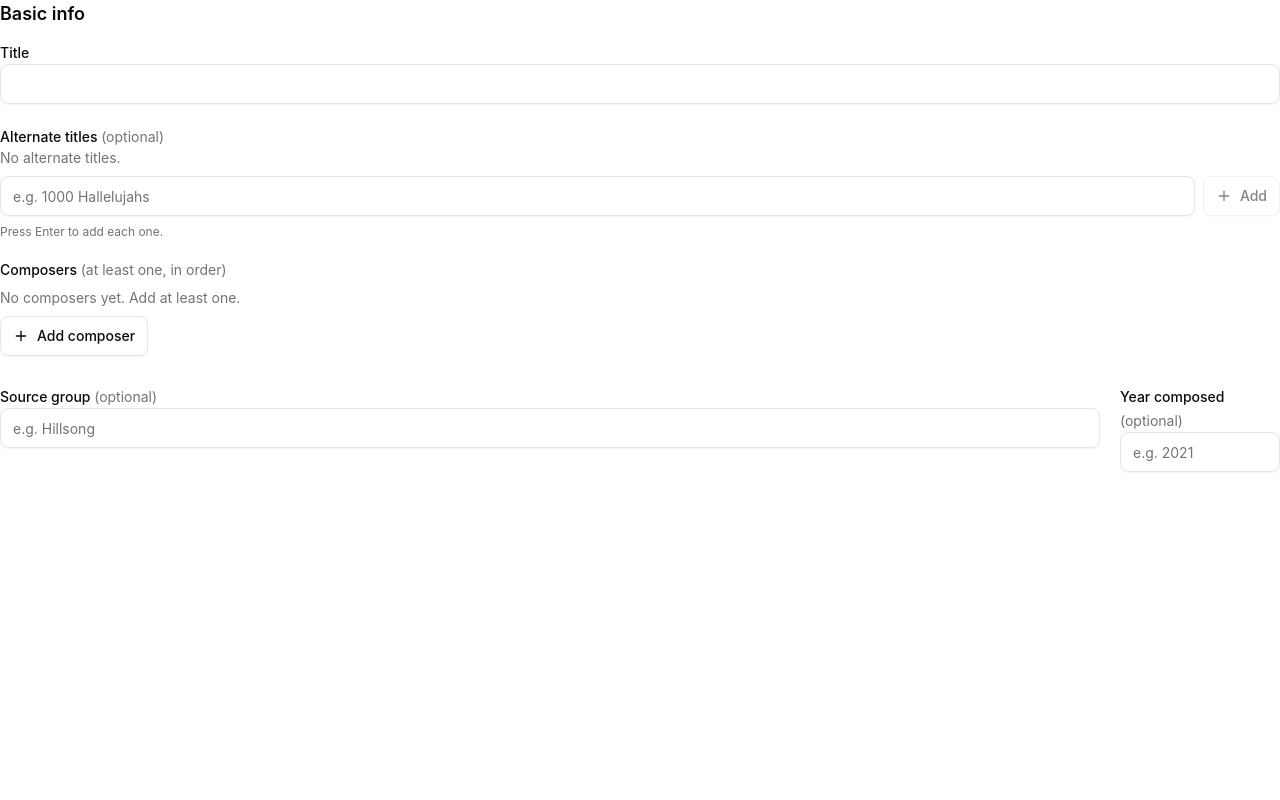
BasicInfoSection › keeps the palette open with an error when create fails
Click the button "Add composer" at (74, 336), box top-left (0, 316), bottom-right (148, 356)
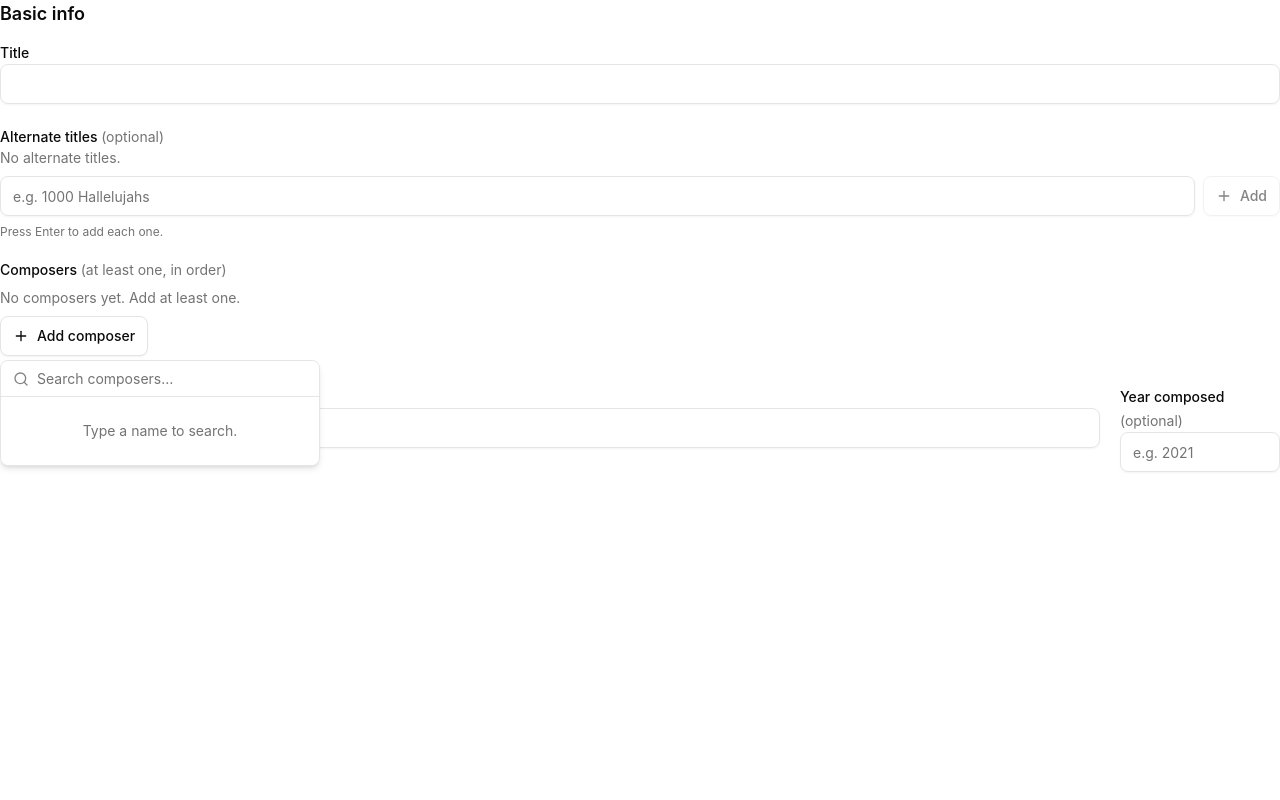
Type "Someone" into the dropdown labelled "Search composers" at (172, 378), box top-left (37, 358), bottom-right (307, 398)
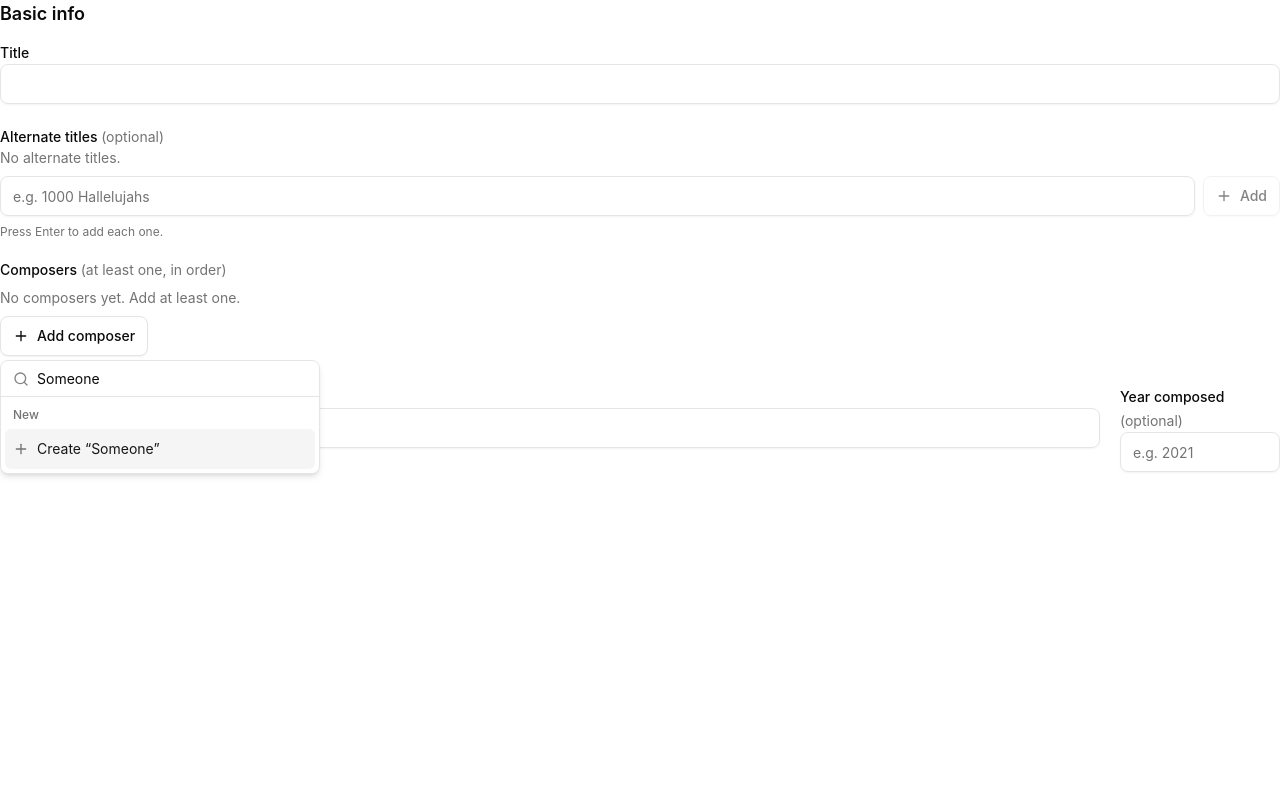
Click the option "Create “Someone”" at (160, 449), box top-left (5, 429), bottom-right (315, 469)
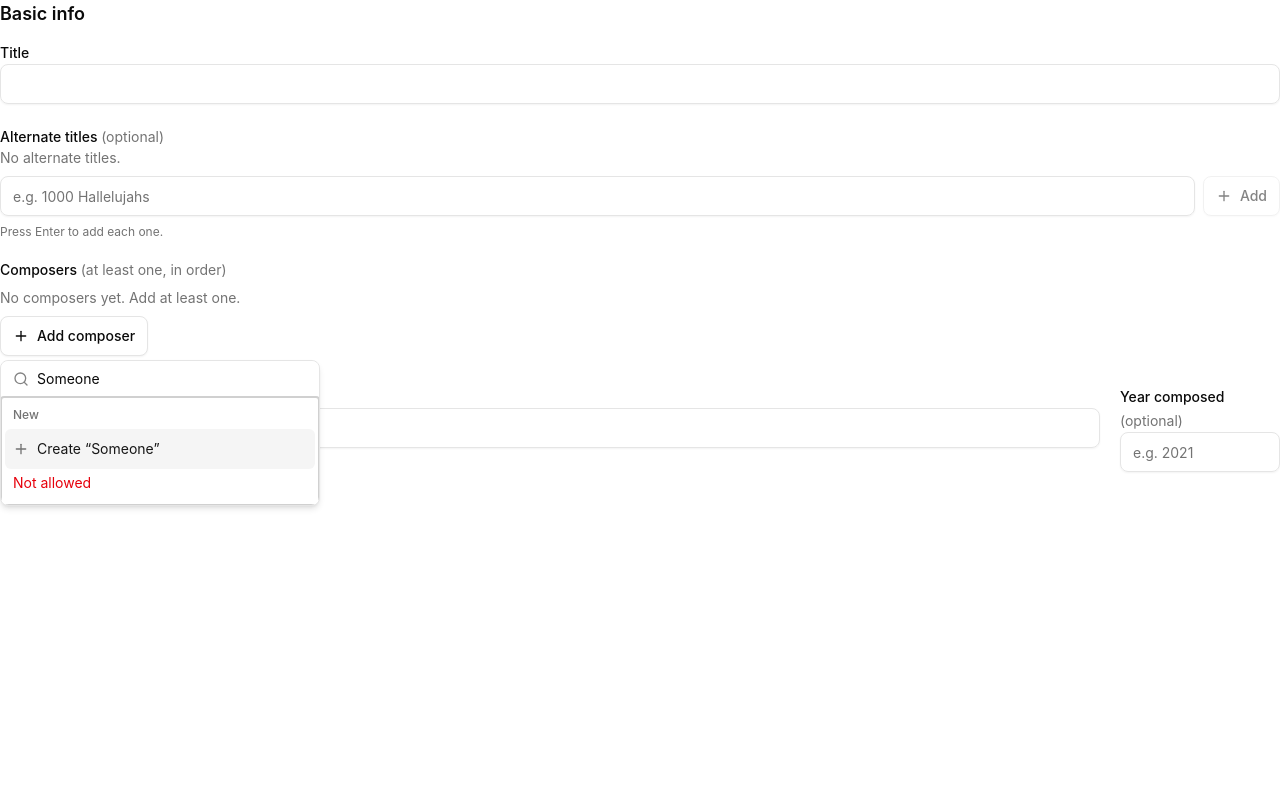
Expected: the text "Not allowed" is shown, top-left (13, 474), bottom-right (91, 491)
